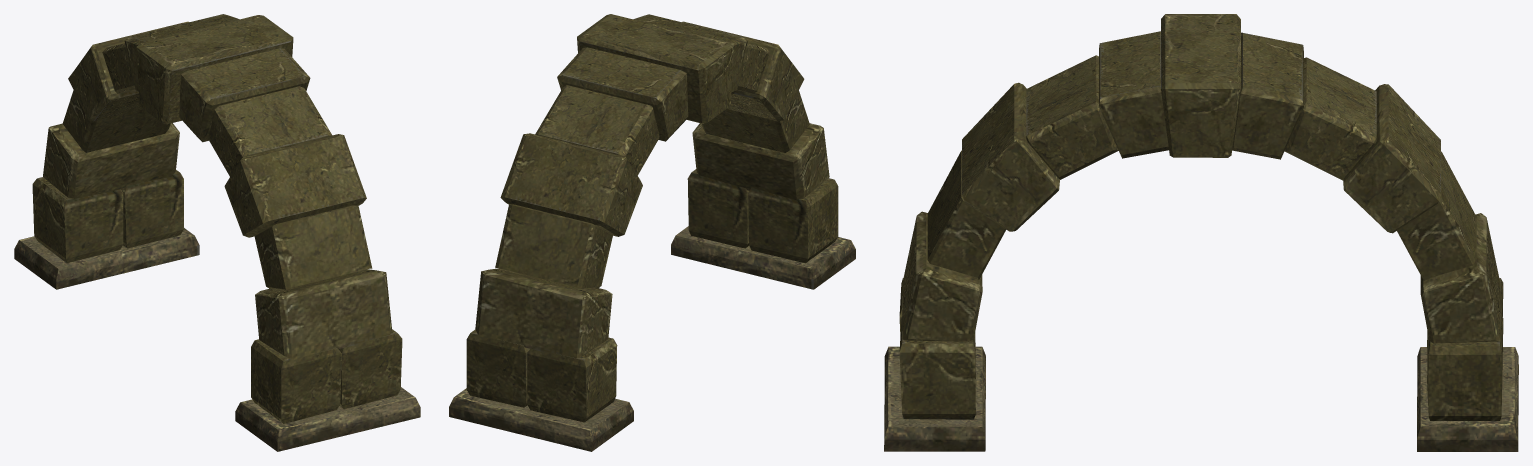
Rendered from Stage001_DOOR_01.FBX.
3 views of the same model, side by side, from view 1: azimuth 30°, elevation 25°; view 2: azimuth 150°, elevation 25°; view 3: azimuth 270°, elevation 25° (orthographic). The views are drawn at different scales.
Parts seen in each view (by area): view 1: Stage001_DOOR_01; view 2: Stage001_DOOR_01; view 3: Stage001_DOOR_01.
Boxes of the visible parts, <box> form: Stage001_DOOR_01: <box>14,14,420,451</box>; Stage001_DOOR_01: <box>449,14,855,451</box>; Stage001_DOOR_01: <box>884,14,1518,451</box>.
Size of the model in its own units: 291 by 580 by 929.
1 material, 1 textured.
